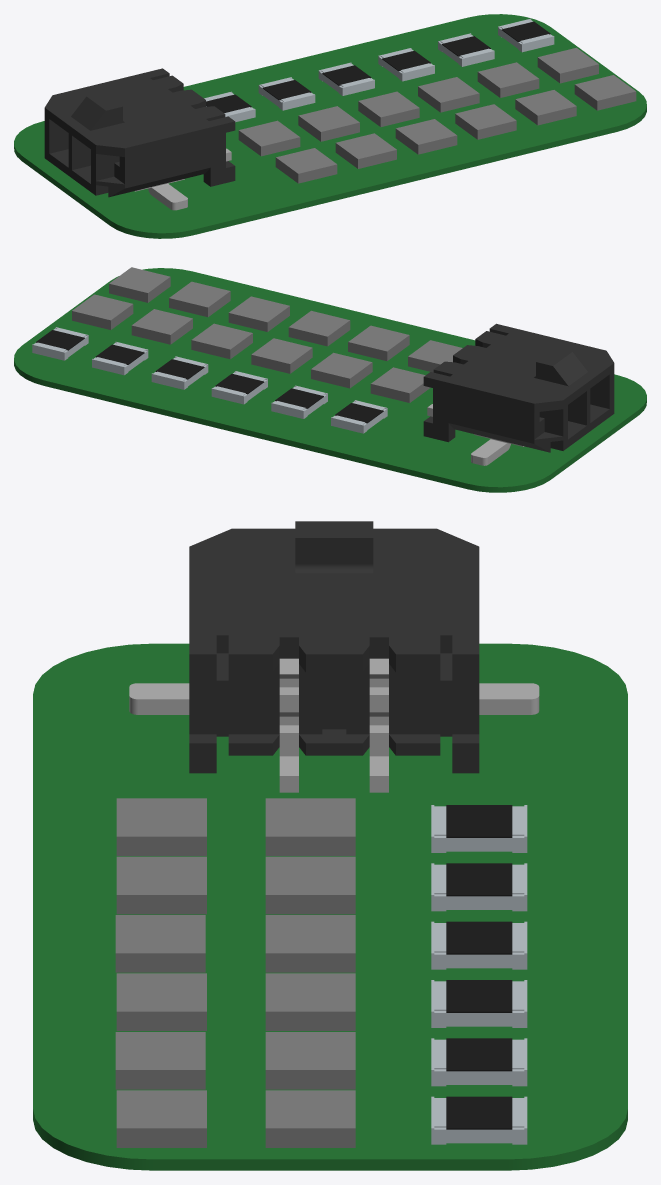
File: DRL.glb
3 renders of one model, top to bottom at view 1: azimuth 30°, elevation 25°; view 2: azimuth 150°, elevation 25°; view 3: azimuth 270°, elevation 25°, orthographic. The views are drawn at different scales.
Parts seen in each view (by area): view 1: Open CASCADE STEP translator 7.5 2.1.1, P1, Extruded002, Extruded007, Extruded010, Extruded011, Extruded001, Extruded003, Extruded006, Extruded, Extruded005, Extruded008 (+14 smaller); view 2: Open CASCADE STEP translator 7.5 2.1.1, P1, Extruded007, Extruded001, Extruded006, Extruded, Extruded002, Extruded004, Extruded005, Extruded008, Extruded009, Extruded003 (+15 smaller); view 3: Open CASCADE STEP translator 7.5 2.1.1, P1, Extruded008, Extruded009, Extruded, Extruded001, Extruded002, Extruded003, Extruded004, Extruded005, Extruded006, Extruded007 (+18 smaller).
Part boxes in pixels (bbox=[...]): Open CASCADE STEP translator 7.5 2.1.1: bbox=[14, 14, 646, 238]; P1: bbox=[44, 68, 235, 197]; Extruded002: bbox=[477, 62, 539, 97]; Extruded007: bbox=[395, 119, 457, 154]; Extruded010: bbox=[238, 120, 300, 156]; Extruded011: bbox=[275, 148, 337, 183]; Extruded001: bbox=[574, 75, 636, 110]; Extruded003: bbox=[515, 90, 576, 125]; Extruded006: bbox=[358, 91, 419, 126]; Extruded: bbox=[537, 47, 598, 83]; Extruded005: bbox=[455, 104, 516, 139]; Extruded008: bbox=[298, 106, 359, 141]; Open CASCADE STEP translator 7.5 2.1.1: bbox=[14, 268, 646, 492]; P1: bbox=[423, 323, 614, 452]; Extruded007: bbox=[288, 310, 350, 346]; Extruded001: bbox=[109, 267, 170, 302]; Extruded006: bbox=[251, 338, 312, 373]; Extruded: bbox=[72, 294, 133, 329]; Extruded002: bbox=[131, 309, 192, 344]; Extruded004: bbox=[191, 323, 252, 359]; Extruded005: bbox=[228, 296, 289, 331]; Extruded008: bbox=[311, 352, 372, 388]; Extruded009: bbox=[348, 325, 409, 360]; Extruded003: bbox=[169, 281, 230, 317]; Open CASCADE STEP translator 7.5 2.1.1: bbox=[33, 643, 627, 1170]; P1: bbox=[189, 521, 479, 773]; Extruded008: bbox=[265, 856, 355, 914]; Extruded009: bbox=[116, 856, 206, 914]; Extruded: bbox=[265, 1090, 355, 1147]; Extruded001: bbox=[116, 1090, 206, 1147]; Extruded002: bbox=[265, 1032, 355, 1089]; Extruded003: bbox=[115, 1032, 205, 1089]; Extruded004: bbox=[265, 973, 355, 1030]; Extruded005: bbox=[116, 973, 206, 1030]; Extruded006: bbox=[265, 915, 355, 972]; Extruded007: bbox=[115, 915, 205, 972].
Size of the model in its own units: 0.0406 by 0.00602 by 0.0198.
